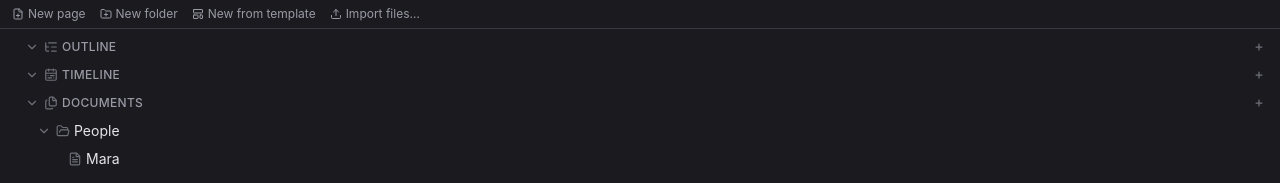
it: the notes binder (2026-10-16) › draws the three sections as section rows that fold on a click
Check: the text "People" is shown, box [74,122,120,139]
What coordinates should you click on to do the following:
click the element showing "Documents"
I would click on:
 (103, 102)
Its box is [24,95,1268,111].
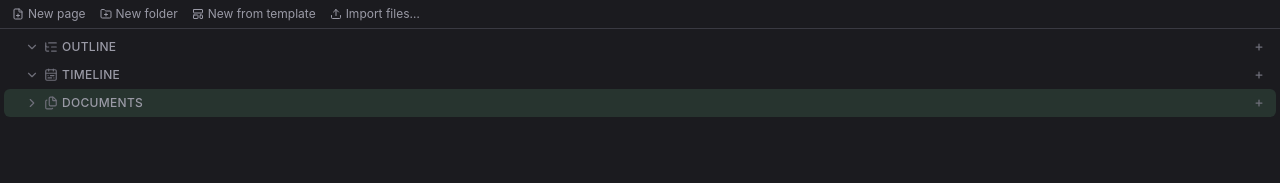
Check: the text "People" is gone
What coordinates should you click on to do the following:
click the element showing "Documents"
I would click on:
 (640, 103)
Its box is [4,89,1276,117].
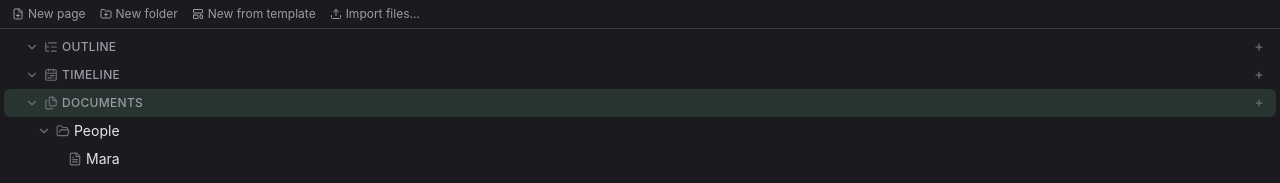
Check: the text "People" is shown, box [74,122,120,139]
